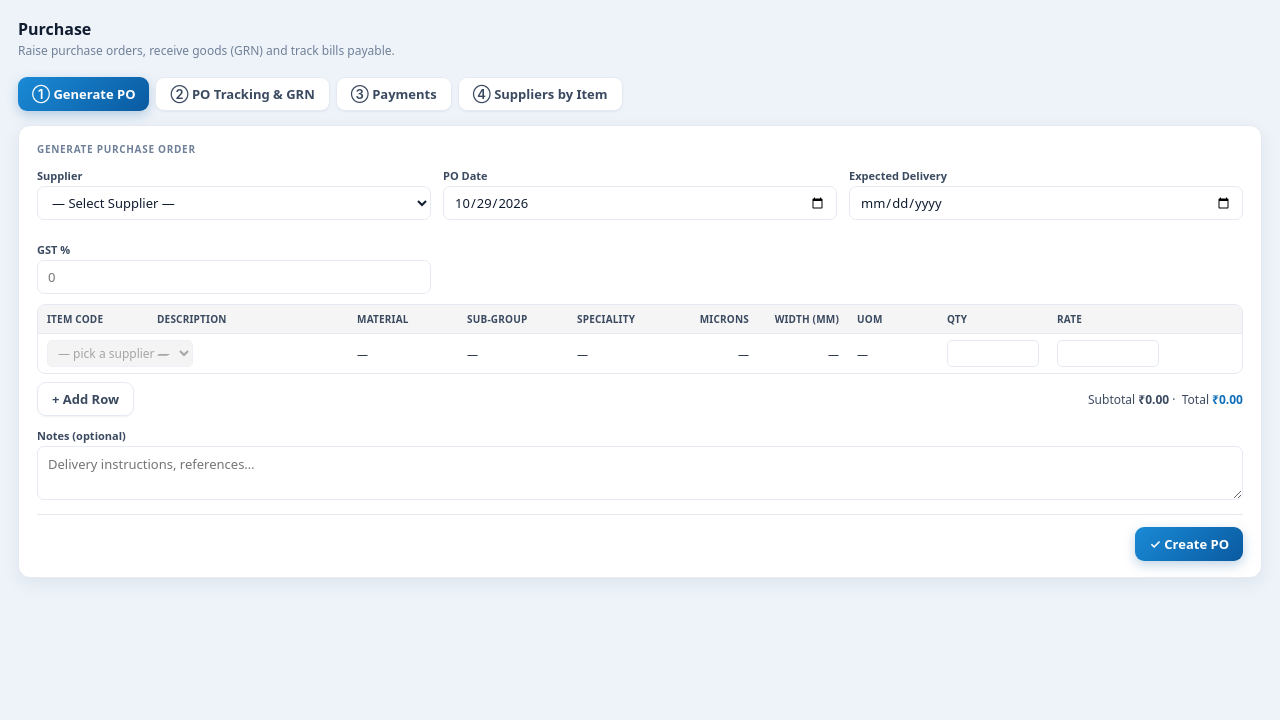
Test: PU2 — the GRN reference is the stores desk’s, never typed › when stores booked none: no typed box, a disabled list, Save off — Force Close still there
Click the button "② PO Tracking & GRN": (243, 94) [156, 77, 330, 111]
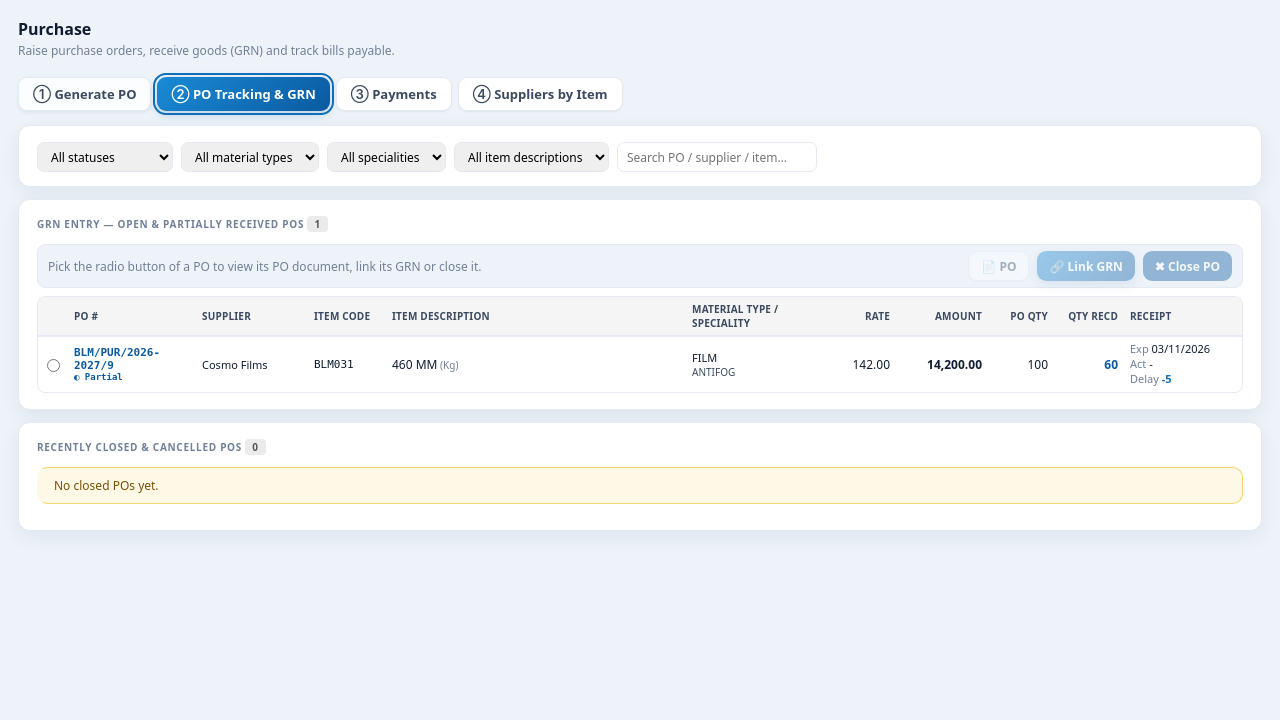
Click the radio button named "Select PO BLM/PUR/2026-2027/9": (53, 366) [46, 359, 60, 372]
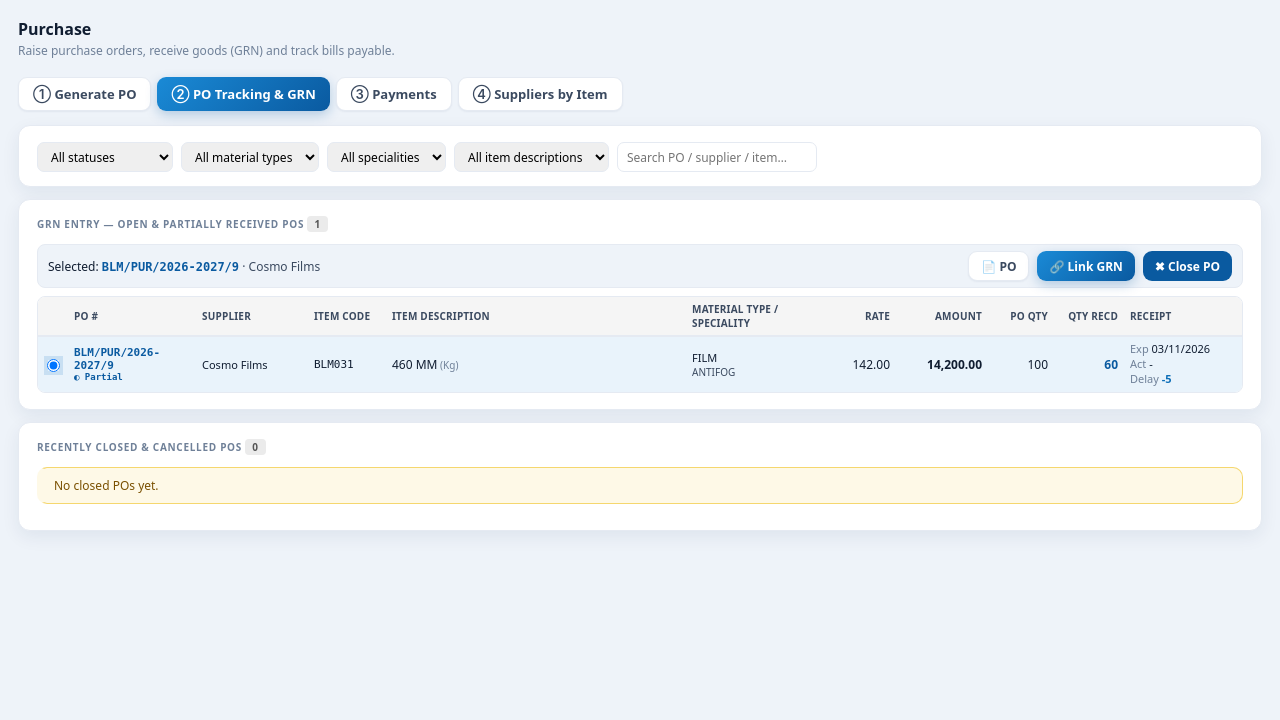
Click the button "🔗 Link GRN": (1086, 266) [1038, 251, 1135, 281]
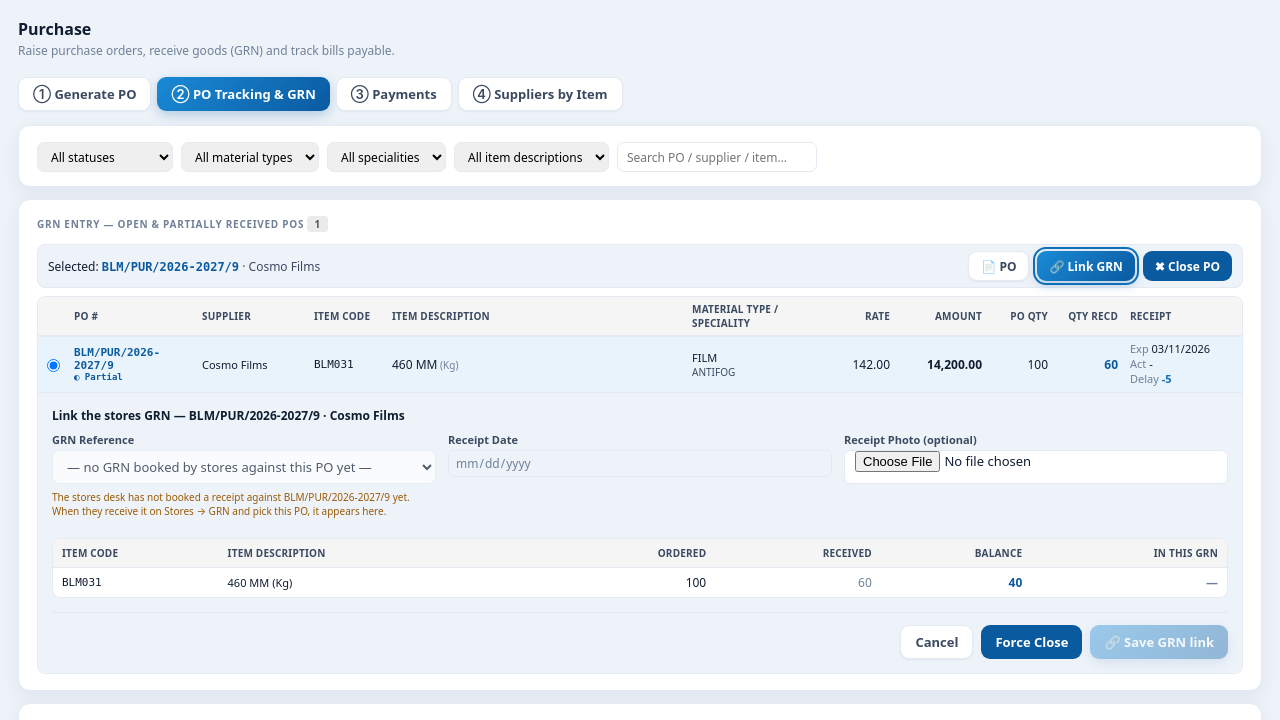
Now the dropdown named "GRN Reference" is disabled, box [52, 450, 436, 484]
Now the text "has not booked a receipt against" is shown, box [52, 490, 410, 518]
Now the button "🔗 Save GRN link" is disabled, box [1090, 624, 1228, 658]
